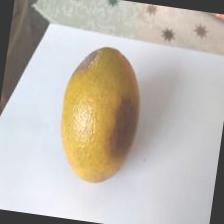Orange Rotten: (73, 84, 143, 195)
